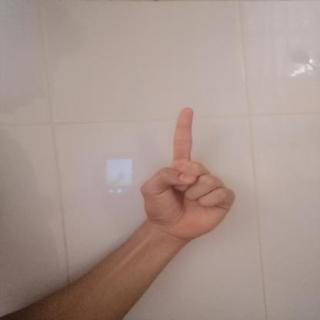BAA: (135, 98, 241, 245)
